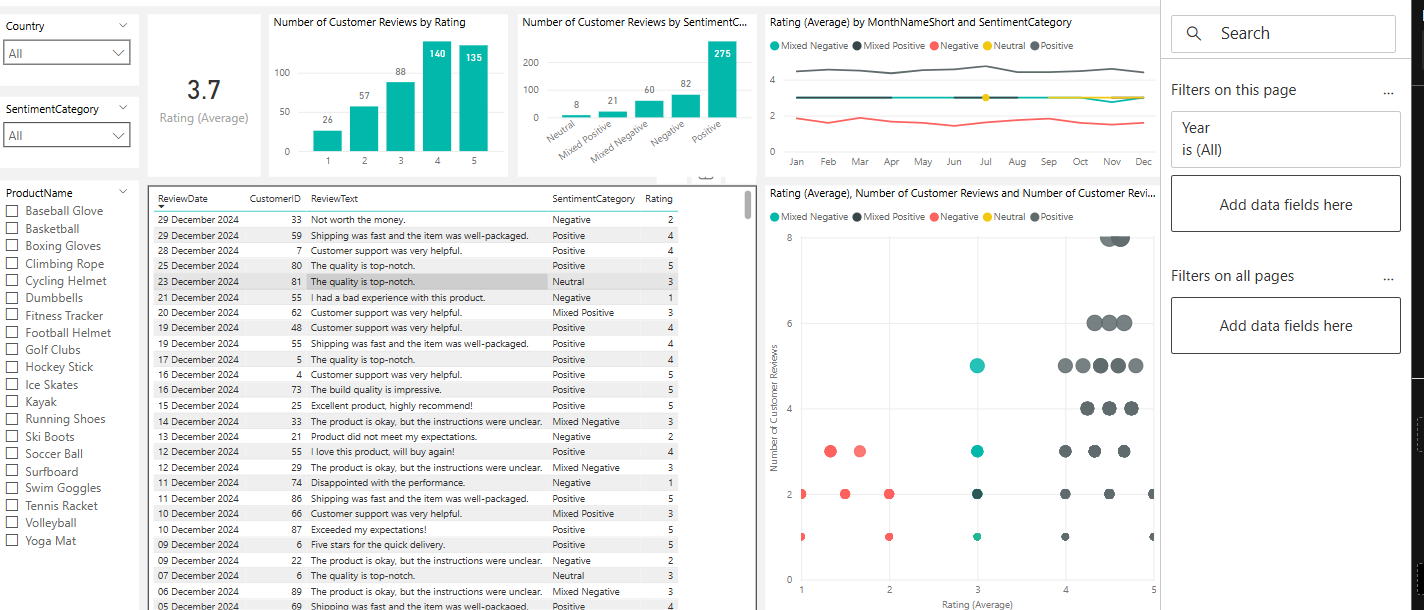

What the dashboard file says about the page in this screenshot:
{"tool":"powerbi","page":{"name":"Customer Review Details","canvas":[1280,720],"ordinal":3},"visuals":[{"type":"textbox","box":[0,0,1280,52.6],"z":0},{"type":"slicer","fields":{"Values":["dim_products.ProductName"]},"box":[0,244.2,159.3,475.3],"z":1000},{"type":"card","fields":{"Values":["_Calculations.Rating (Average)"]},"box":[168.5,61.9,123.8,178.5],"z":2000},{"type":"slicer","fields":{"Values":["Calendar.MonthNameShort"]},"box":[536.8,4.1,743.2,44.4],"z":3000},{"type":"lineChart","fields":{"Category":["Calendar.MonthNameShort"],"Y":["_Calculations.Rating (Average)"],"Series":["fact_customer_reviews_with_sentiment.SentimentCategory"]},"box":[846.2,62,434.1,178.4],"z":4000},{"type":"slicer","fields":{"Values":["Calendar.Year"]},"box":[324.1,4.1,208.5,44.4],"z":5000},{"type":"tableEx","fields":{"Values":["fact_customer_reviews_with_sentiment.ReviewDate","fact_customer_reviews_with_sentiment.CustomerID","fact_customer_reviews_with_sentiment.ReviewText","fact_customer_reviews_with_sentiment.SentimentCategory","Sum(fact_customer_reviews_with_sentiment.Rating)"]},"box":[168.5,249.5,668.4,470.8],"z":6000},{"type":"columnChart","fields":{"Category":["fact_customer_reviews_with_sentiment.Rating"],"Y":["_Calculations.Number of Customer Reviews"]},"box":[302.4,62,262.4,178.4],"z":7000},{"type":"columnChart","fields":{"Category":["fact_customer_reviews_with_sentiment.SentimentCategory"],"Y":["_Calculations.Number of Customer Reviews"]},"box":[574.3,62,262.4,178.4],"z":8000},{"type":"slicer","fields":{"Values":["dim_customers.Country"]},"box":[0,61.4,159.3,78.3],"z":9000},{"type":"slicer","fields":{"Values":["fact_customer_reviews_with_sentiment.SentimentCategory"]},"box":[0,152.8,159.3,78.3],"z":10000},{"type":"scatterChart","fields":{"Category":["dim_customers.CustomerID"],"Series":["fact_customer_reviews_with_sentiment.SentimentCategory"],"X":["_Calculations.Rating (Average)"],"Y":["_Calculations.Number of Customer Reviews"],"Size":["_Calculations.Number of Customer Reviews"]},"box":[846,249.5,434.4,470.8],"z":11000}]}

Visuals, with their boxes on the page's 1280x720 design canvas (x1, y1, x2, y2). These are canvas units, not pixel positions in the 1424x610 screenshot, which may show the page scaled, cropped or inside an application window:
textbox: box=[0, 0, 1280, 53]
slicer - dim_products.ProductName: box=[0, 244, 159, 720]
card - _Calculations.Rating (Average): box=[168, 62, 292, 240]
slicer - Calendar.MonthNameShort: box=[537, 4, 1280, 48]
lineChart - Calendar.MonthNameShort x _Calculations.Rating (Average): box=[846, 62, 1280, 240]
slicer - Calendar.Year: box=[324, 4, 533, 48]
tableEx - fact_customer_reviews_with_sentiment.ReviewDate x fact_customer_reviews_with_sentiment.CustomerID: box=[168, 250, 837, 720]
columnChart - fact_customer_reviews_with_sentiment.Rating x _Calculations.Number of Customer Reviews: box=[302, 62, 565, 240]
columnChart - fact_customer_reviews_with_sentiment.SentimentCategory x _Calculations.Number of Customer Reviews: box=[574, 62, 837, 240]
slicer - dim_customers.Country: box=[0, 61, 159, 140]
slicer - fact_customer_reviews_with_sentiment.SentimentCategory: box=[0, 153, 159, 231]
scatterChart - dim_customers.CustomerID x fact_customer_reviews_with_sentiment.SentimentCategory: box=[846, 250, 1280, 720]
